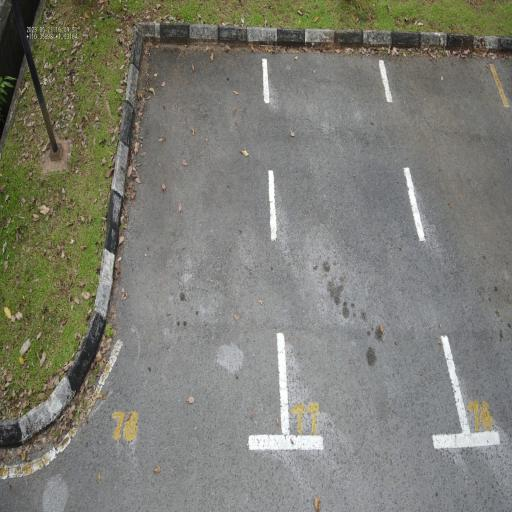Empty: (70, 27, 294, 460), (257, 36, 478, 460)
